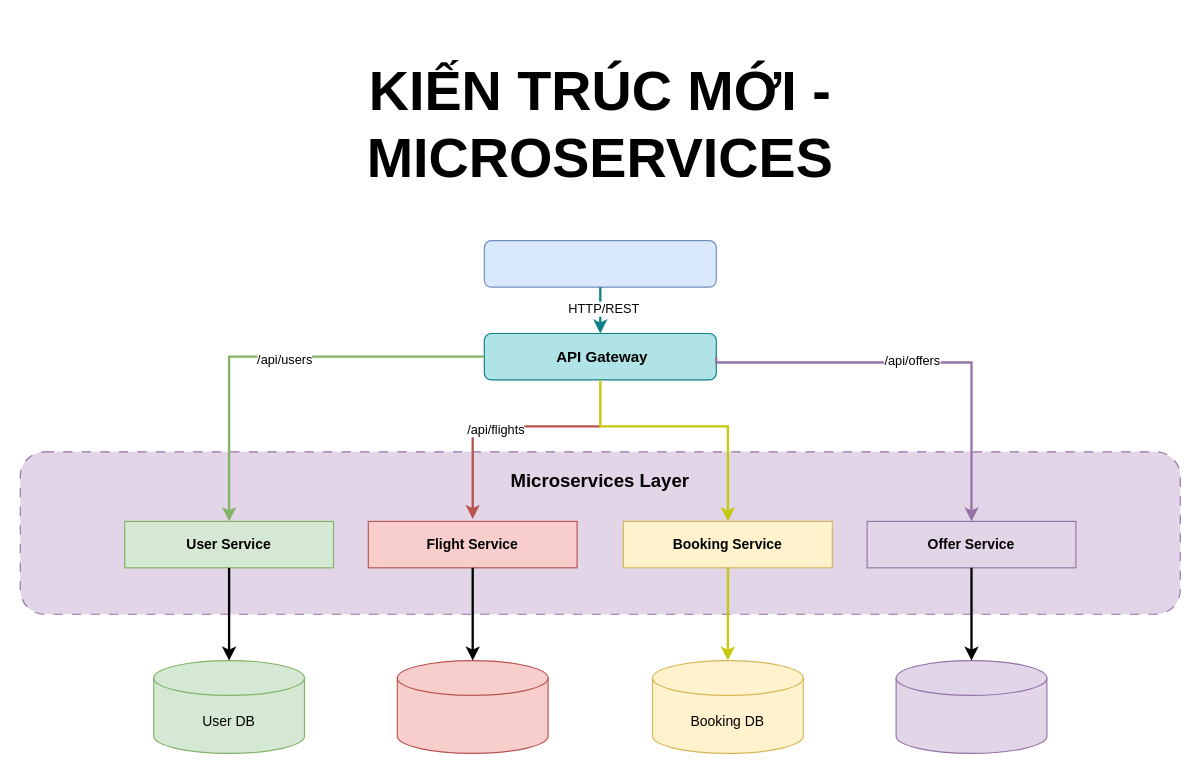
This 1201x774 diagram has some shape labels left out. The box of each missing label's shape, as (x1, y1, x2, y2) in pixels:
Client Browser: (483, 240, 716, 287)
Flight DB: (396, 659, 548, 753)
Offer DB: (895, 659, 1047, 753)
